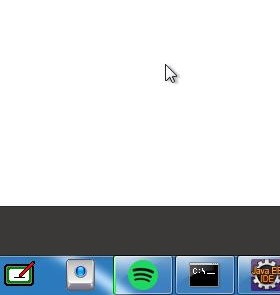cursor: (163, 62, 178, 85)
